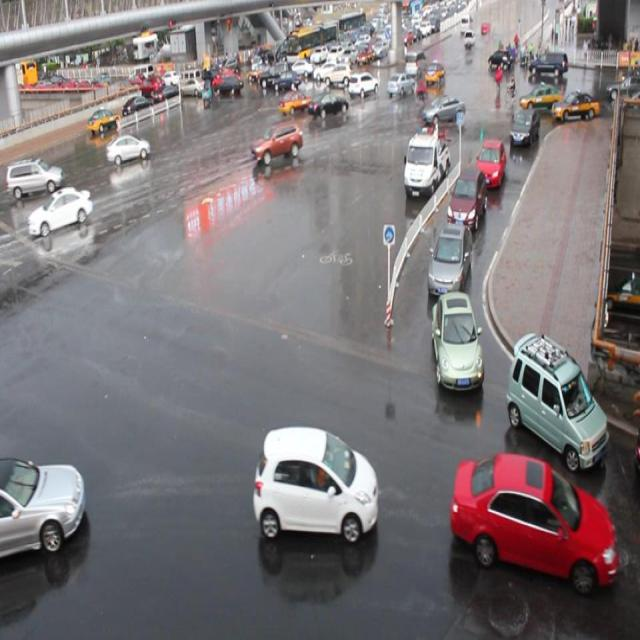bus: (402, 128, 448, 198)
car: (450, 451, 615, 588), (503, 327, 609, 472), (252, 424, 378, 541), (1, 453, 86, 557), (429, 287, 484, 389), (427, 220, 472, 296), (28, 187, 93, 235), (447, 166, 486, 229), (252, 121, 302, 162), (474, 138, 505, 188), (420, 93, 464, 125), (106, 133, 151, 164), (508, 106, 540, 149), (517, 82, 564, 110), (308, 91, 349, 118), (278, 88, 313, 111), (346, 72, 378, 96)
truck: (8, 156, 65, 194)
